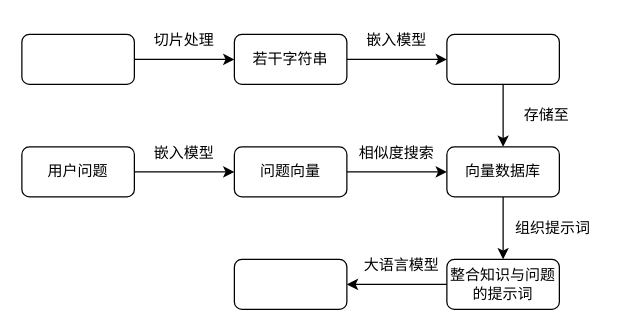
The diagram is 619 pixels wide and 331 high, and some of its shapes have lost their labels. The shapes that lost their labels are listed below. From the top down, each one's box as (x1, y1, x2, y2) in pixels, then its label:
(21, 33, 134, 84): 知识文档
(446, 33, 559, 84): 嵌入向量
(233, 258, 347, 309): 最终回答
